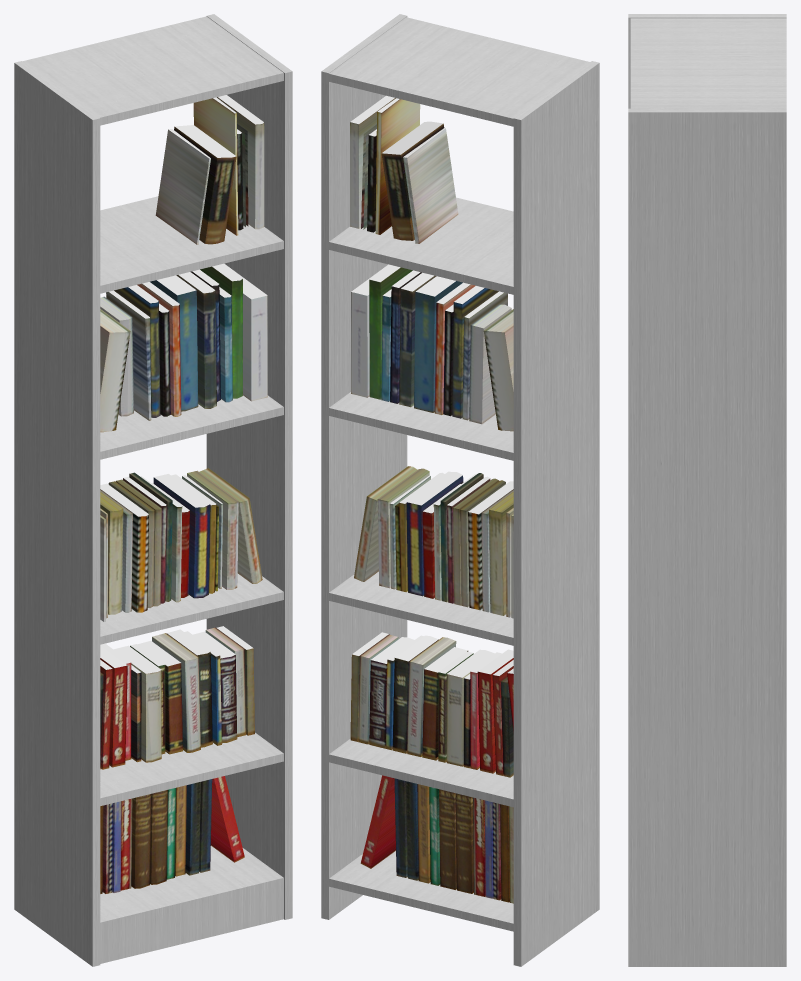
File: Bookshelf 1.fbx
3 views of the same model, side by side, from view 1: azimuth 30°, elevation 25°; view 2: azimuth 150°, elevation 25°; view 3: azimuth 270°, elevation 25° (orthographic).
Parts seen in each view (by area): view 1: bookshelf 1, books; view 2: bookshelf 1, books; view 3: bookshelf 1.
Part boxes in pixels (bbox=[...]): bookshelf 1: bbox=[14, 14, 292, 966]; books: bbox=[100, 95, 267, 893]; bookshelf 1: bbox=[321, 14, 599, 966]; books: bbox=[350, 95, 513, 903]; bookshelf 1: bbox=[628, 14, 786, 966].
Bounding box in the file's own units: 53.87 × 218 × 36.63.
2 materials, 2 textured.
